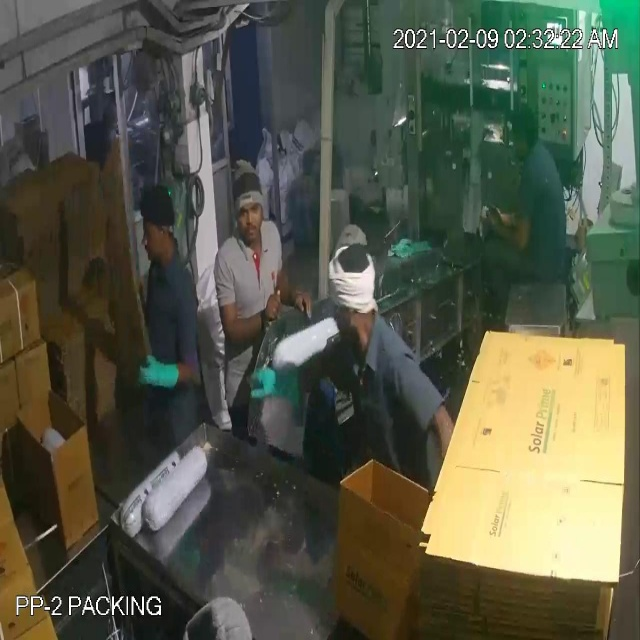Guantes: (249, 354, 310, 419), (138, 337, 184, 404)
Sin_guantes: (483, 187, 541, 268), (211, 287, 283, 350), (277, 262, 314, 328)
